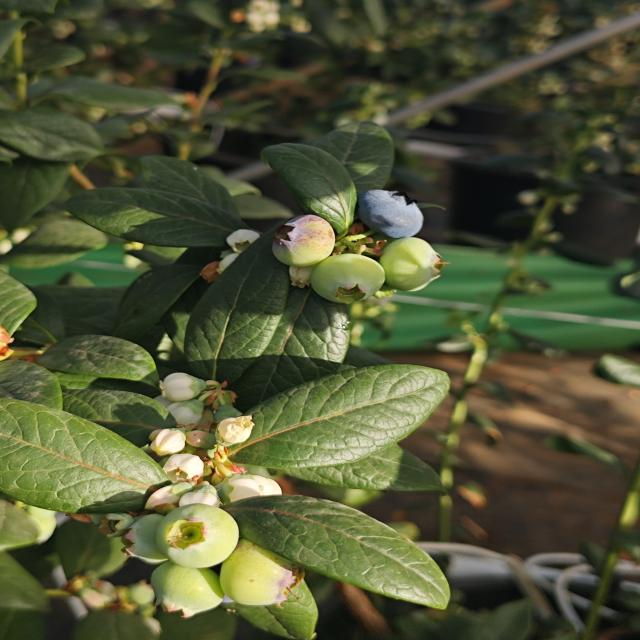ripe: (356, 182, 428, 241)
